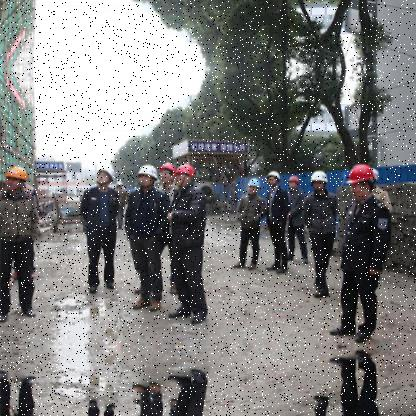Helmet: (346, 164, 381, 206), (2, 165, 35, 194), (170, 162, 196, 194), (306, 166, 330, 198), (132, 164, 160, 190), (92, 164, 114, 192), (156, 158, 177, 186), (264, 166, 282, 190), (284, 177, 302, 196), (246, 178, 262, 198)
